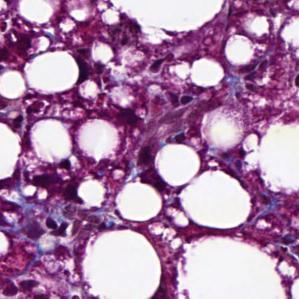inflammation: (0, 275, 43, 299), (40, 215, 75, 238), (164, 89, 195, 109)
